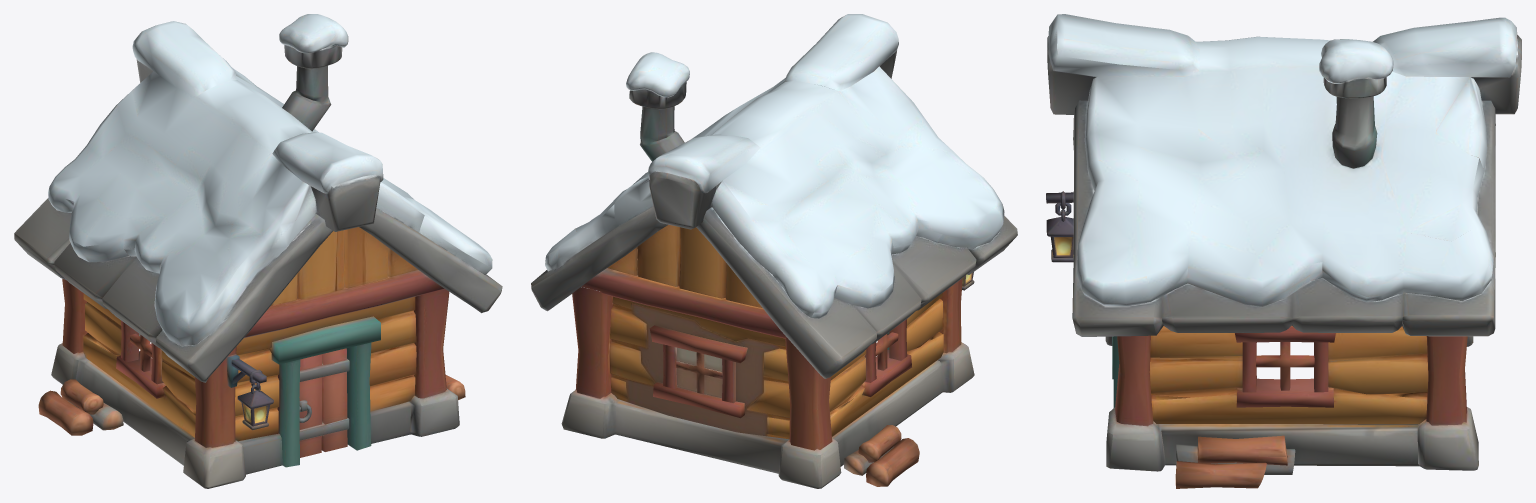
Rendered from asset.glb.
The picture shows the model from 3 angles, left to right: view 1: azimuth 30°, elevation 25°; view 2: azimuth 150°, elevation 25°; view 3: azimuth 270°, elevation 25°; orthographic projection. The views are drawn at different scales.
Visible parts, largest first — view 1: tripo_node_bb21bd5d-1a96-45ce-a475-a2005c0537e6; view 2: tripo_node_bb21bd5d-1a96-45ce-a475-a2005c0537e6; view 3: tripo_node_bb21bd5d-1a96-45ce-a475-a2005c0537e6.
Boxes of the visible parts, x1,y1,x2,y2 form: tripo_node_bb21bd5d-1a96-45ce-a475-a2005c0537e6: [14, 14, 502, 488]; tripo_node_bb21bd5d-1a96-45ce-a475-a2005c0537e6: [531, 14, 1017, 488]; tripo_node_bb21bd5d-1a96-45ce-a475-a2005c0537e6: [1046, 14, 1521, 488].
Size of the model in its own units: 13.28 by 13.58 by 14.
Materials: 1 (1 with a texture image).
